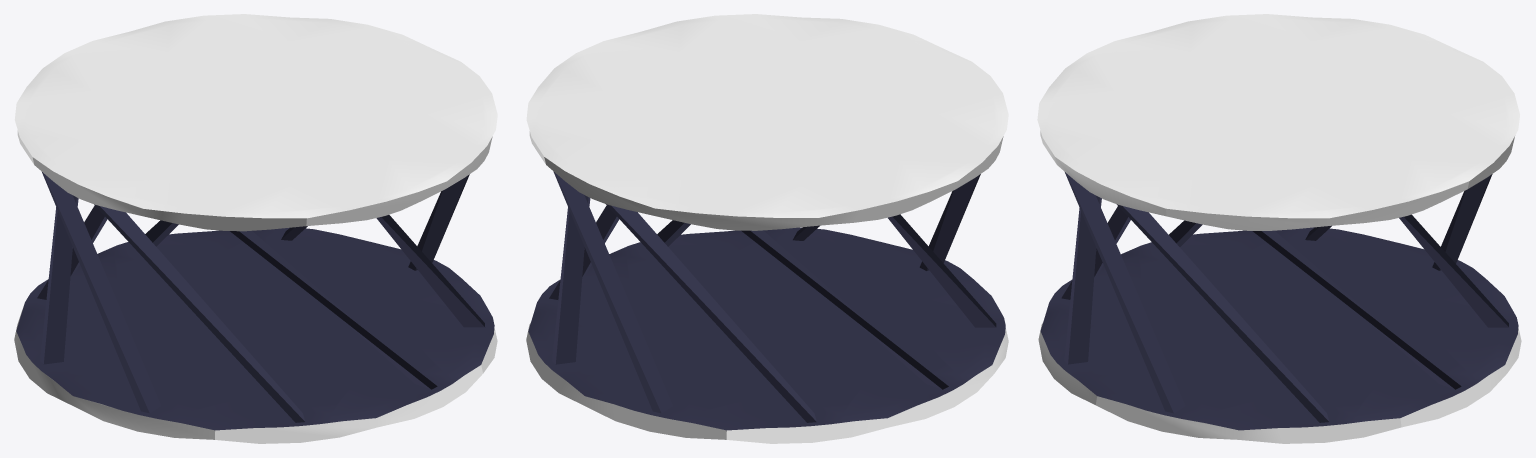
File: SIDETABLE.glb
3 renders of one model, left to right at view 1: azimuth 30°, elevation 25°; view 2: azimuth 150°, elevation 25°; view 3: azimuth 270°, elevation 25°, orthographic.
Parts seen in each view (by area): view 1: SIDE TABLE; view 2: SIDE TABLE; view 3: SIDE TABLE.
Part boxes in pixels (x1=…): SIDE TABLE: x1=14, y1=14, x2=497, y2=443; SIDE TABLE: x1=526, y1=14, x2=1008, y2=443; SIDE TABLE: x1=1037, y1=14, x2=1521, y2=443.
Bounding box in the file's own units: 1.89 × 0.9795 × 1.89.
